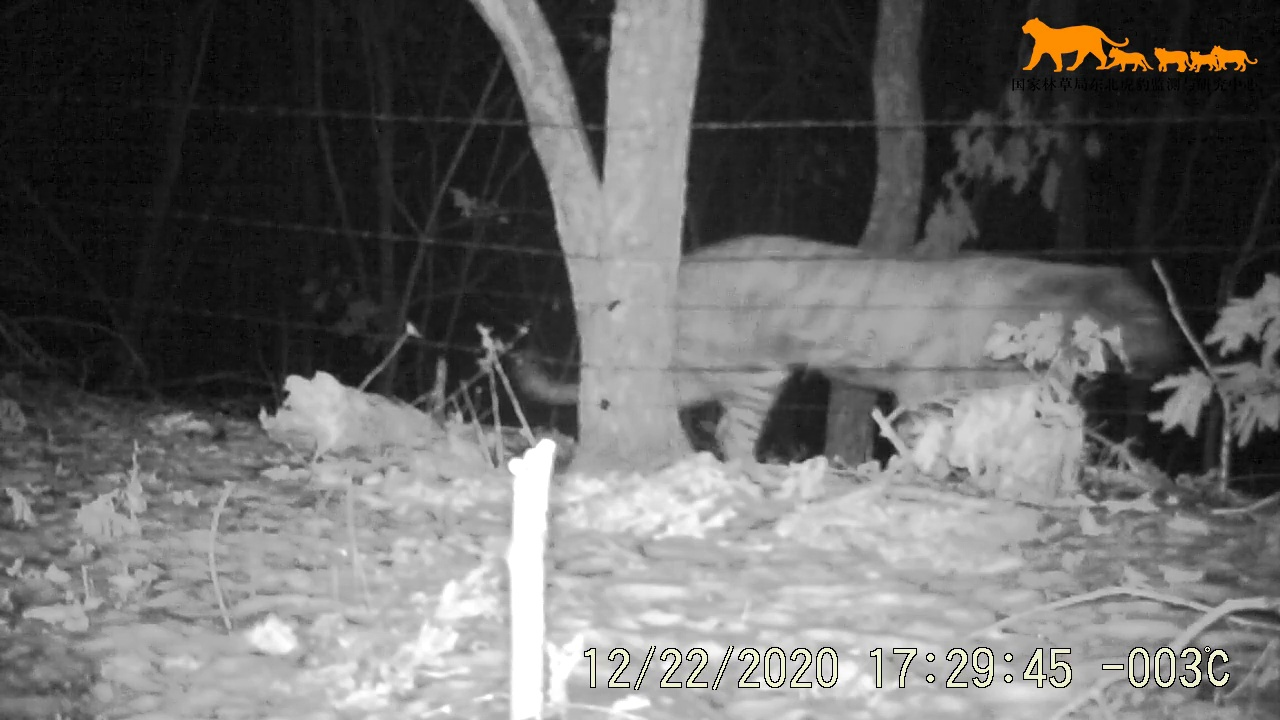Tiger: (607, 169, 1212, 563)
